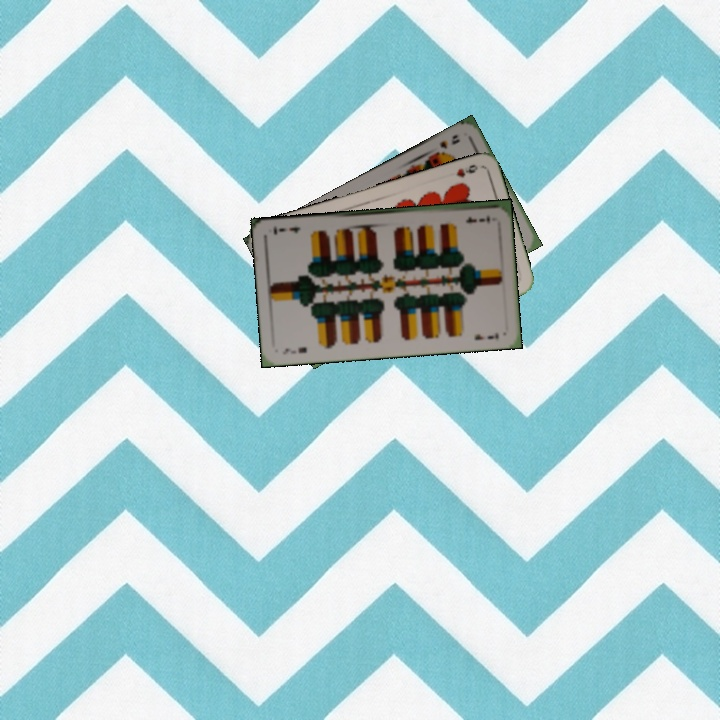E7: (462, 211, 492, 226), (278, 343, 310, 357)
H9: (452, 160, 480, 180)
S9: (429, 130, 462, 159)
